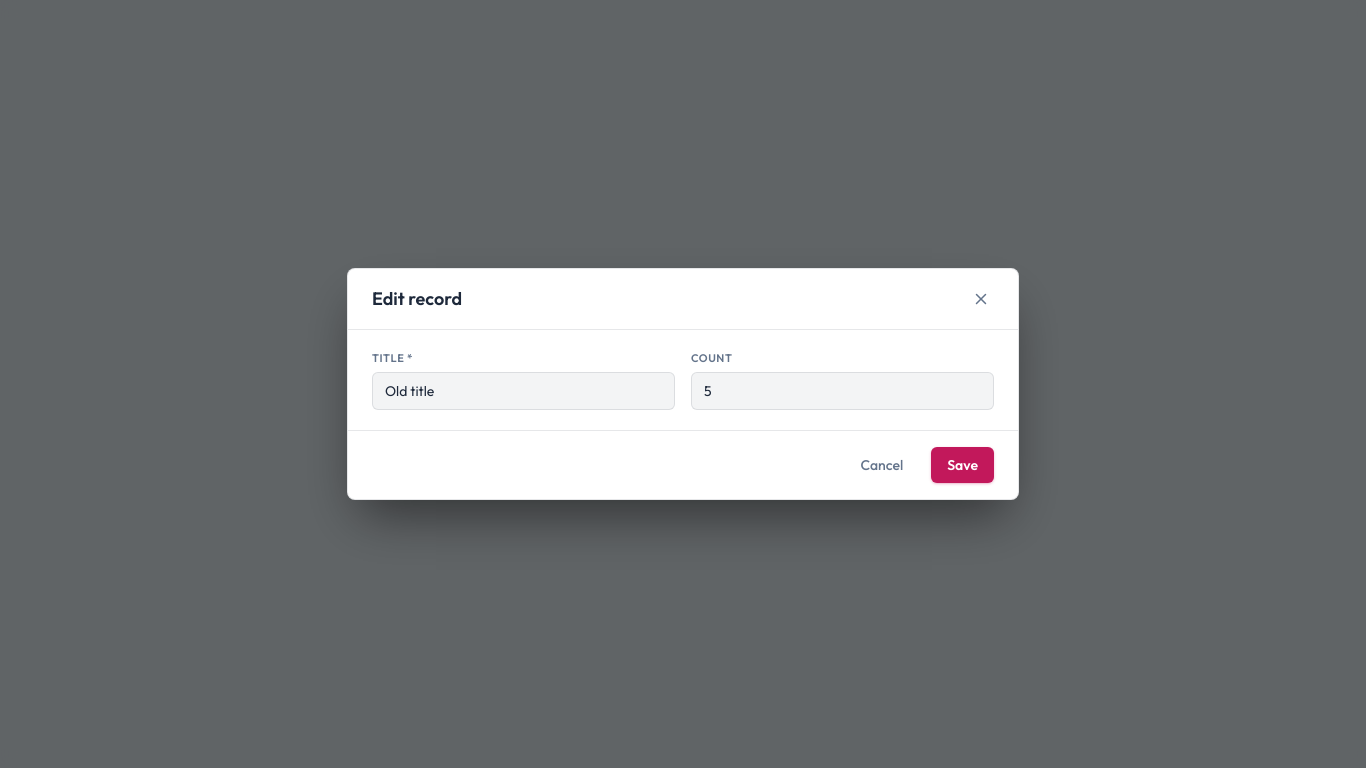
Test: RecordFormModal › blocks clearing a required property inline without sending a PATCH
Clear the field labelled "Title *" at (524, 391), box [372, 372, 675, 410]
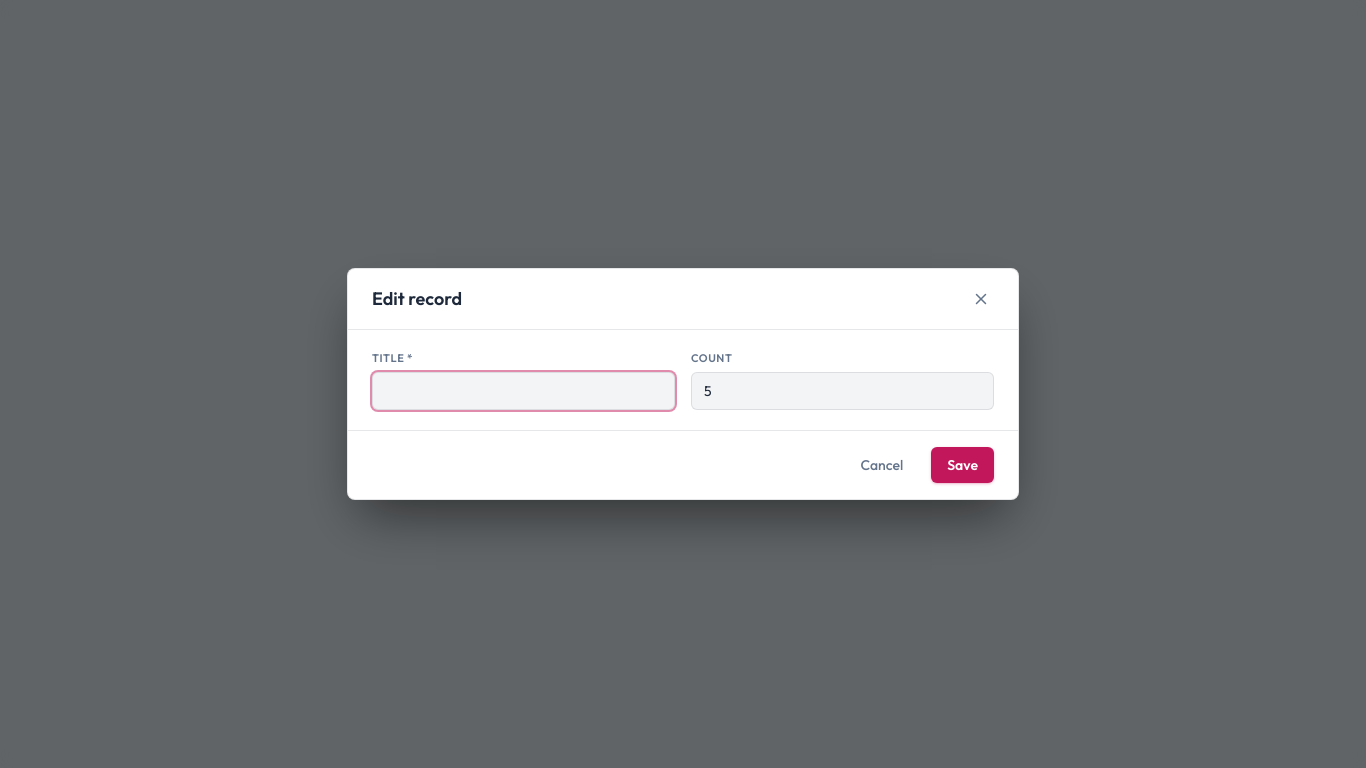
Click the button "Save" at (963, 465), box [931, 447, 994, 483]
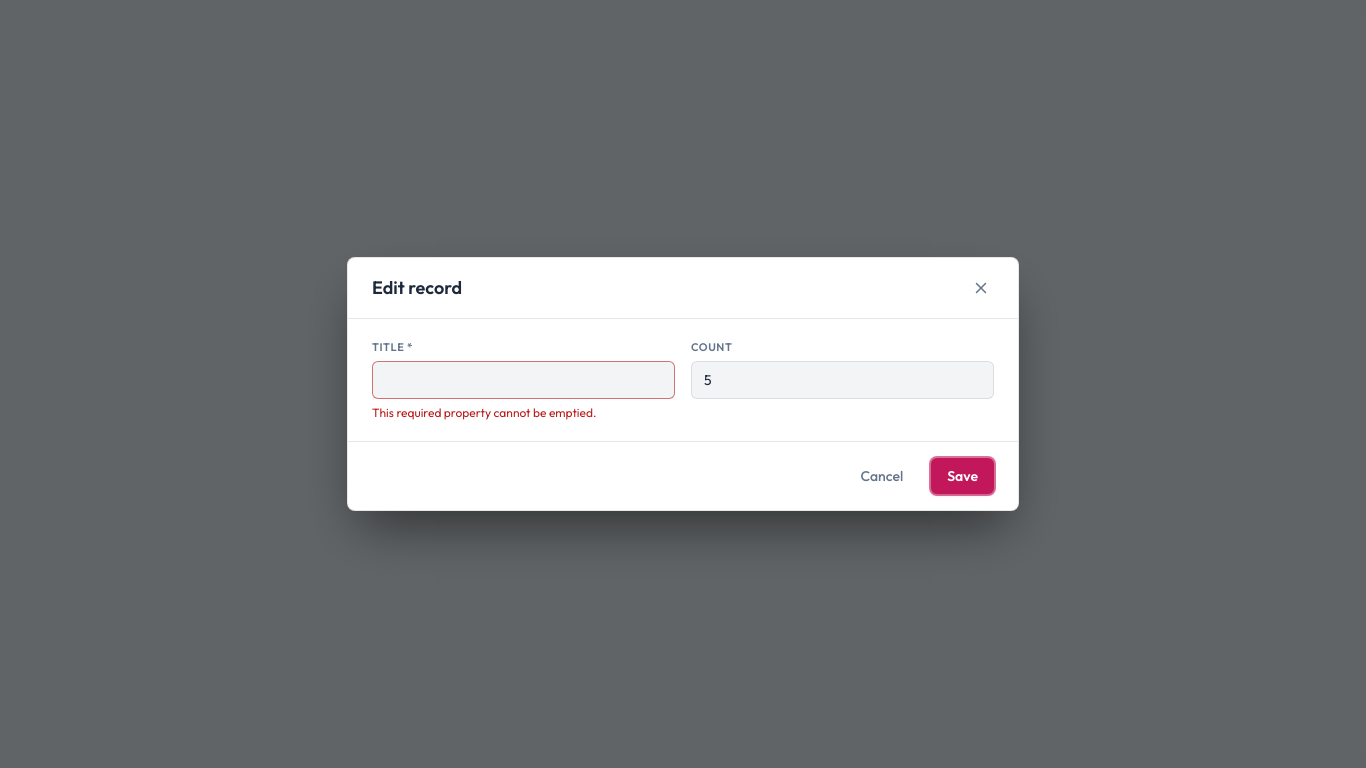
Check: the text "This required property cannot be emptied." is shown, box [372, 405, 596, 420]
